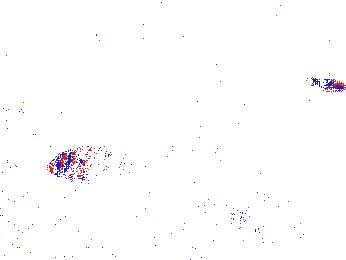X-ray fish: (47, 144, 135, 180), (228, 201, 256, 239)
red belly glassfish: (308, 73, 346, 97)
